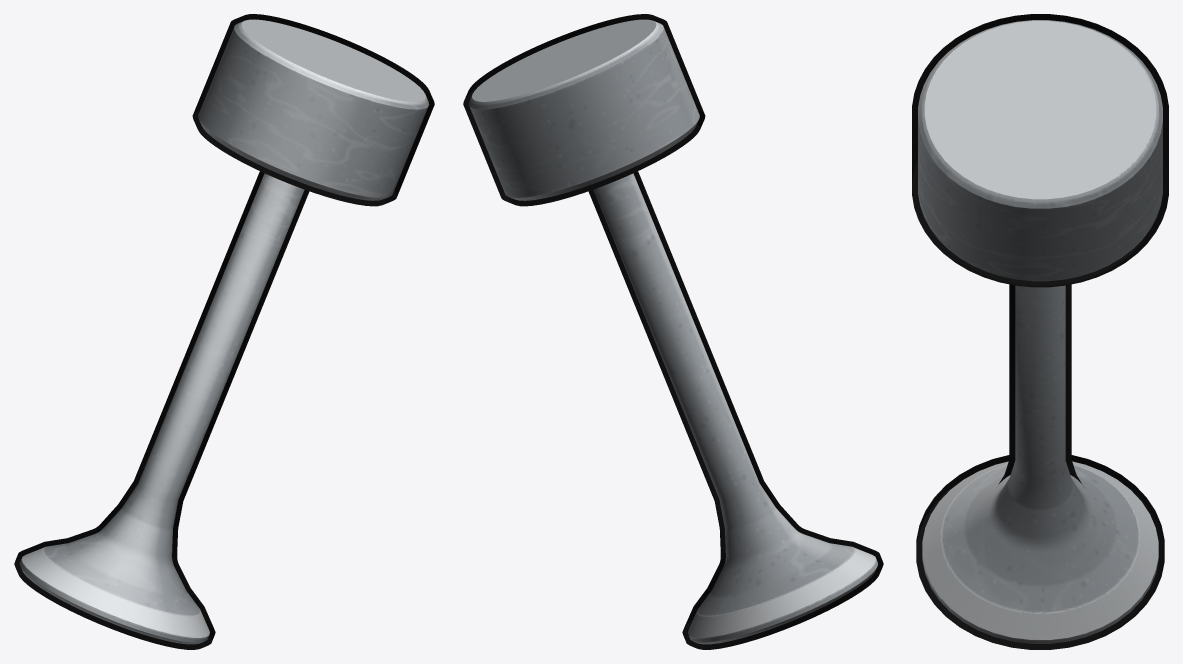
The model's file is IntakeValve.fbx.
The picture shows the model from 3 angles, left to right: view 1: azimuth 30°, elevation 25°; view 2: azimuth 150°, elevation 25°; view 3: azimuth 270°, elevation 25°; orthographic projection. The views are drawn at different scales.
Parts seen in each view (by area): view 1: IntakeValve; view 2: IntakeValve; view 3: IntakeValve.
Boxes of the visible parts, left/top/right/bottom form: IntakeValve: left=14, top=14, right=434, bottom=649; IntakeValve: left=463, top=14, right=883, bottom=649; IntakeValve: left=912, top=14, right=1168, bottom=649.
Bounding box in the file's own units: 0.0619 × 0.0876 × 0.0303.
Materials: 1 (1 with a texture image).
